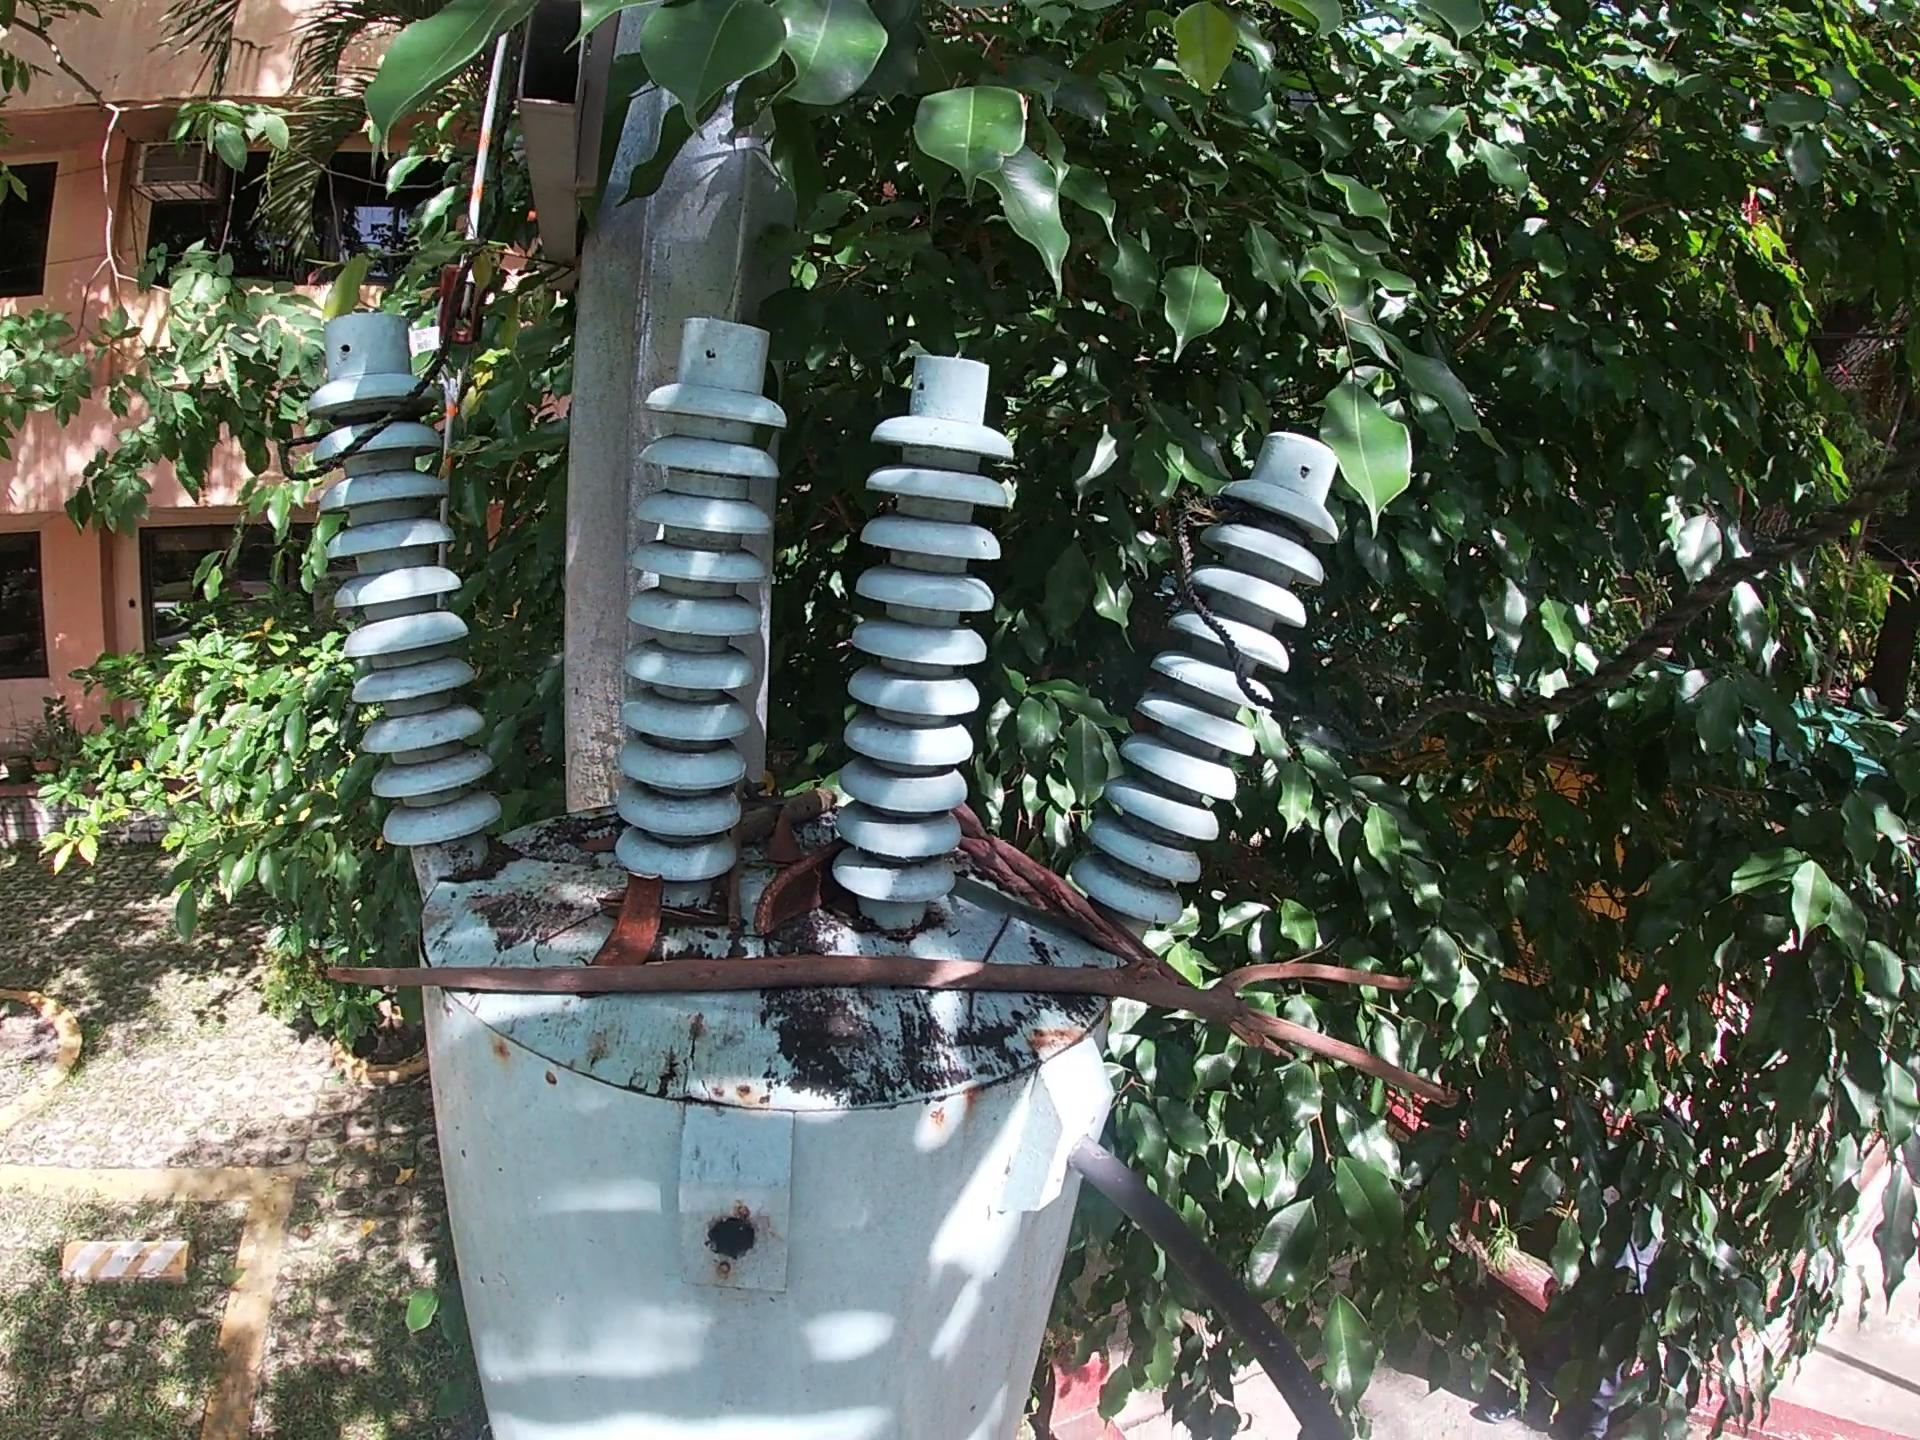leaf: (760, 799, 807, 871), (593, 886, 632, 929), (581, 830, 624, 858)
mahogany fruit: (748, 833, 851, 939), (585, 868, 670, 968)
tree branch: (317, 939, 1468, 1115), (951, 794, 1297, 1066), (738, 784, 838, 846), (720, 777, 748, 933)
